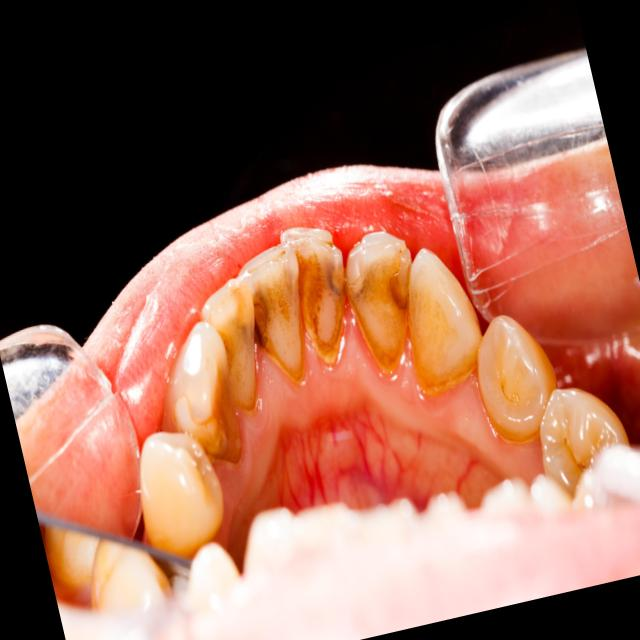Tooth: (162, 321, 241, 463), (408, 247, 482, 394), (477, 313, 558, 443), (139, 432, 222, 556), (237, 243, 305, 383), (346, 231, 411, 368), (280, 226, 345, 363), (199, 277, 255, 411)
